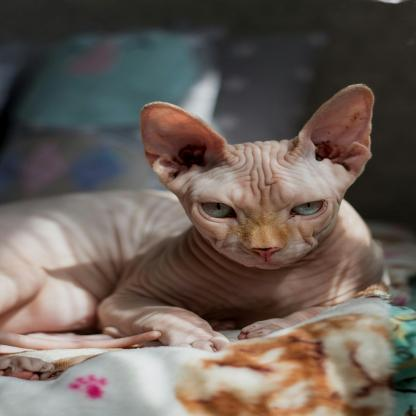cat: (2, 82, 395, 376)
